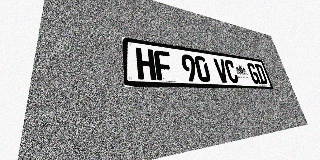0: (193, 55, 211, 82)
9: (180, 53, 199, 82)
C: (223, 59, 239, 83)
D: (254, 64, 268, 84)
F: (153, 50, 173, 81)
G: (246, 63, 261, 84)
H: (135, 47, 156, 80)
V: (213, 58, 230, 83)
